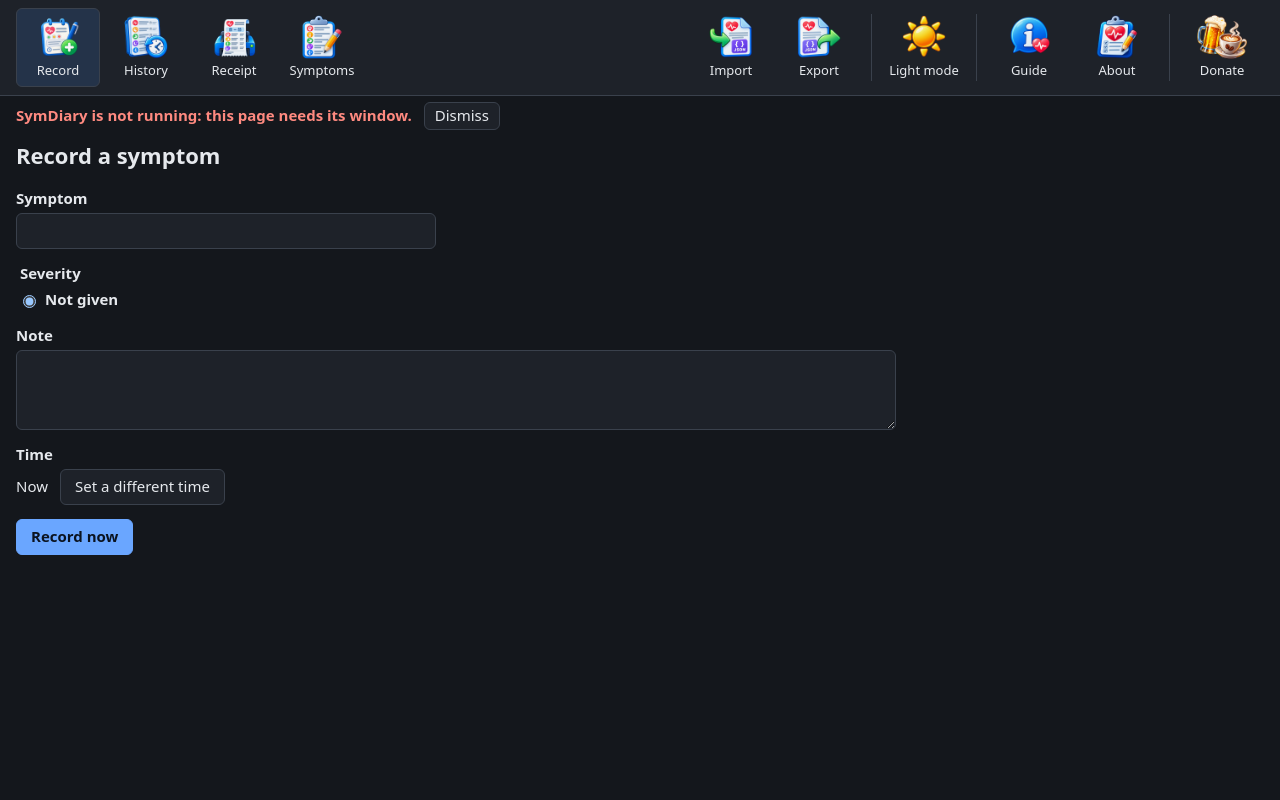
Test: the shell › shows a refusal and lets it be dismissed
The image size is (1280, 800).
Check: the text "SymDiary is not running: this page needs its window." is shown, box [16,105,412,127]
Click the button "Dismiss".
click(462, 116)  # box [424,102,500,130]
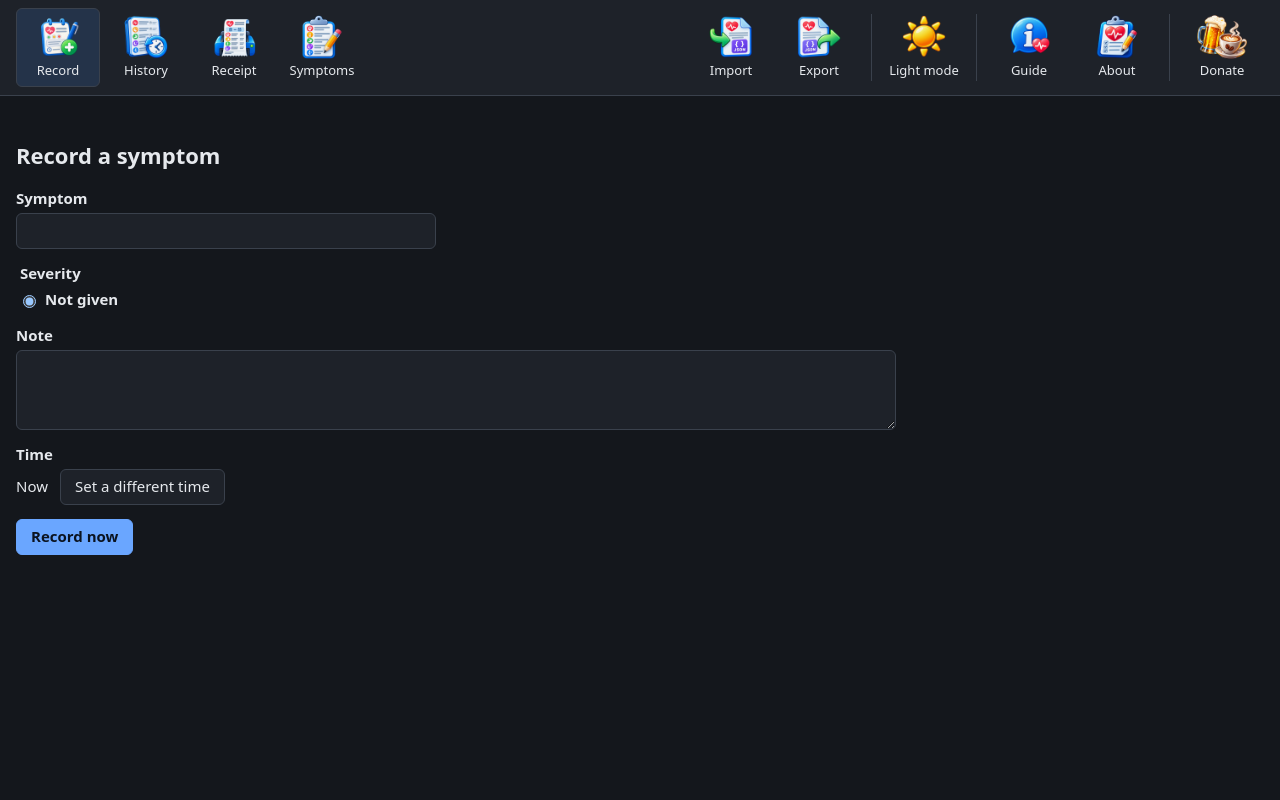
Check: the text "SymDiary is not running: this page needs its window." is gone
